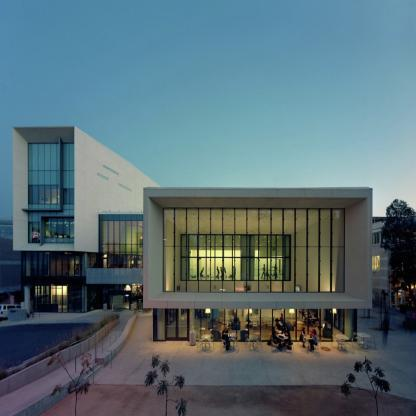Building Outline: (12, 126, 372, 342)
Dont: (267, 326, 294, 354), (298, 327, 322, 354), (189, 330, 215, 352), (220, 326, 240, 352), (331, 334, 355, 354), (353, 331, 377, 350), (244, 334, 264, 352)
Door: (165, 308, 189, 342)
Facade: (143, 186, 372, 342)
Floor Slab: (143, 304, 372, 309)
Glass Wall: (163, 208, 345, 292), (190, 308, 354, 342), (157, 308, 165, 342)
Ground Floor: (153, 308, 357, 342)
Top Floor: (143, 187, 372, 304)
